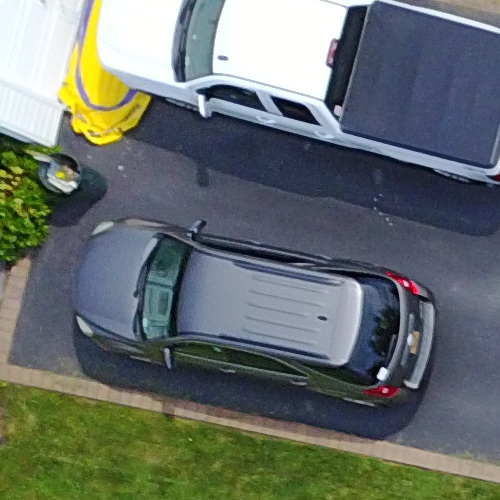trash bin: (32, 141, 114, 210)
